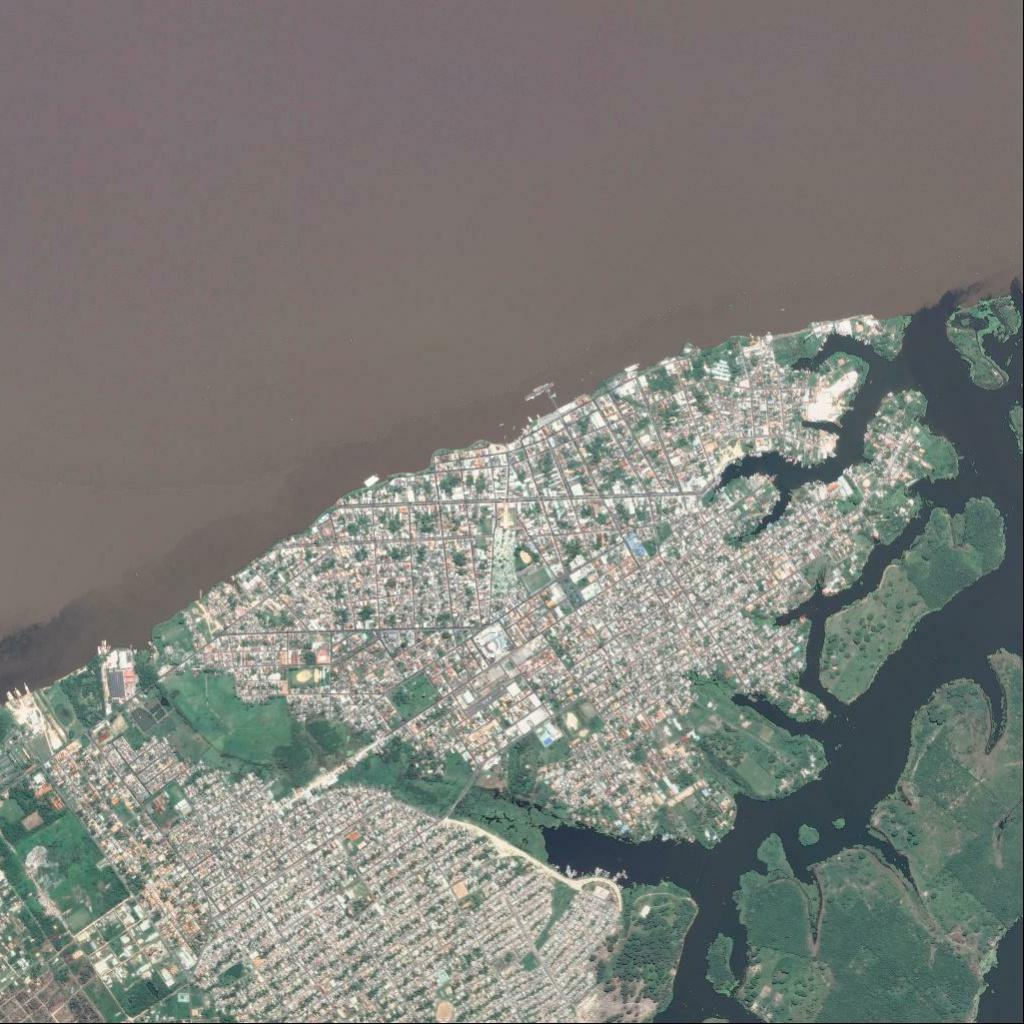harbor: (521, 382, 564, 421)
